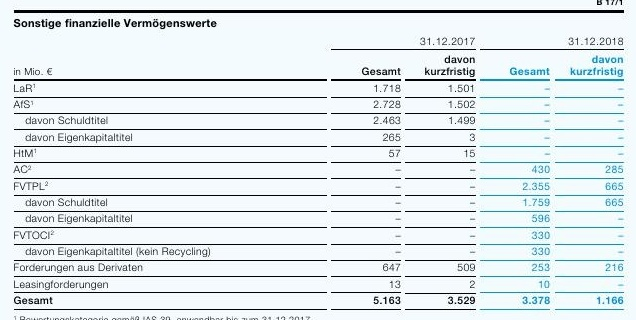table: (0, 0, 636, 320)
